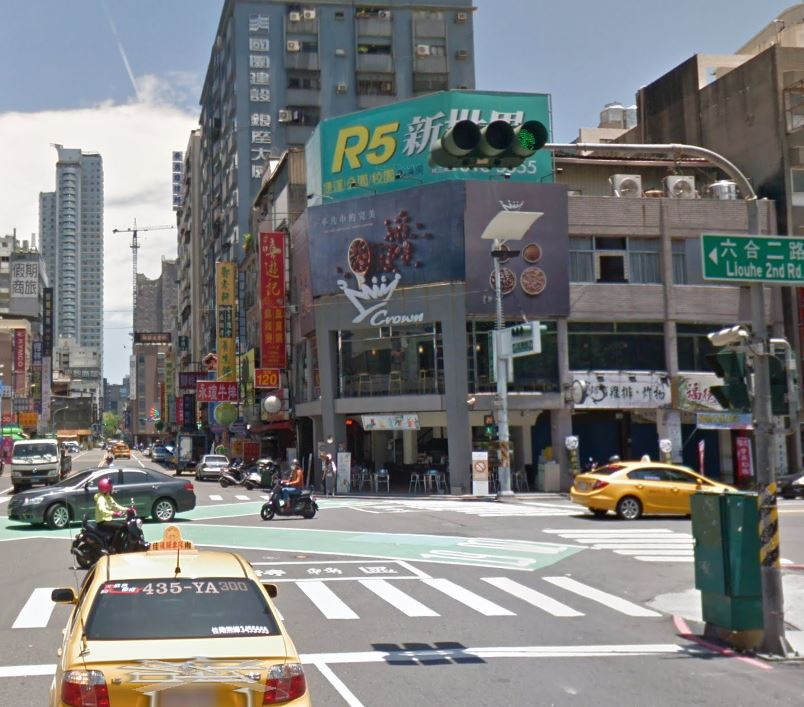Traffic_light_green: (426, 115, 550, 173)
car: (10, 465, 199, 533)
motorcycle: (67, 509, 156, 574), (253, 471, 324, 522)
